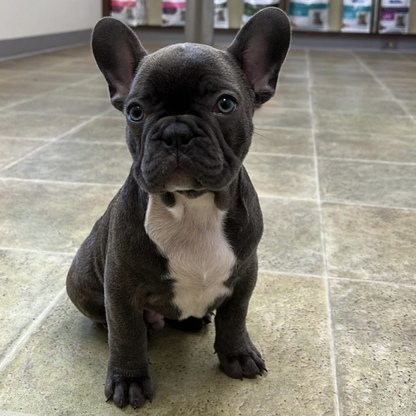bulldog: (62, 5, 294, 412)
